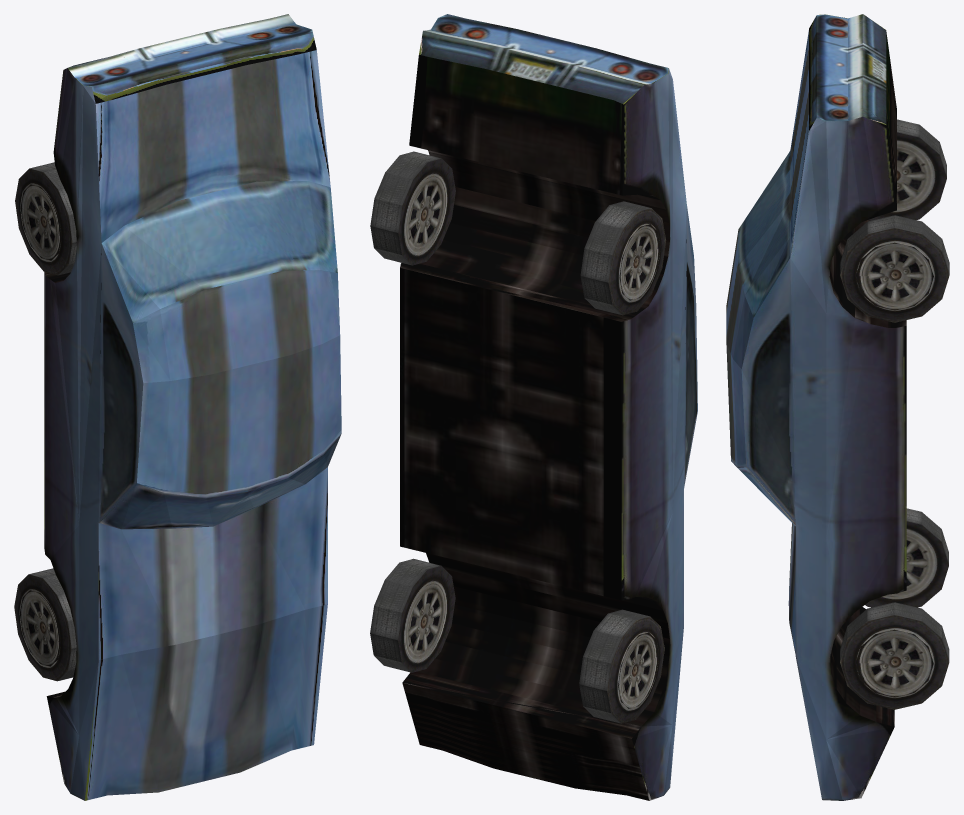
Rendered from carpack_superfly_wtf.obj.
The picture shows the model from 3 angles, left to right: view 1: azimuth 30°, elevation 25°; view 2: azimuth 150°, elevation 25°; view 3: azimuth 270°, elevation 25°; orthographic projection. The views are drawn at different scales.
Visible parts, largest first — view 1: group2; view 2: group2; view 3: group2.
Boxes of the visible parts, x1,y1,x2,y2 form: group2: [14, 14, 341, 800]; group2: [370, 14, 697, 800]; group2: [726, 14, 949, 800].
Bounding box in the file's own units: 230 × 660 × 193.
